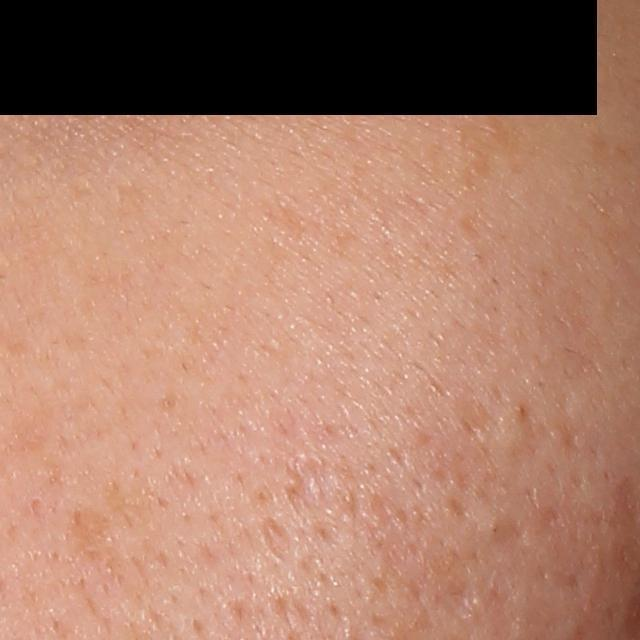atrophic_scar: (280, 453, 355, 530), (252, 518, 303, 573), (437, 574, 481, 623), (491, 510, 527, 553)
